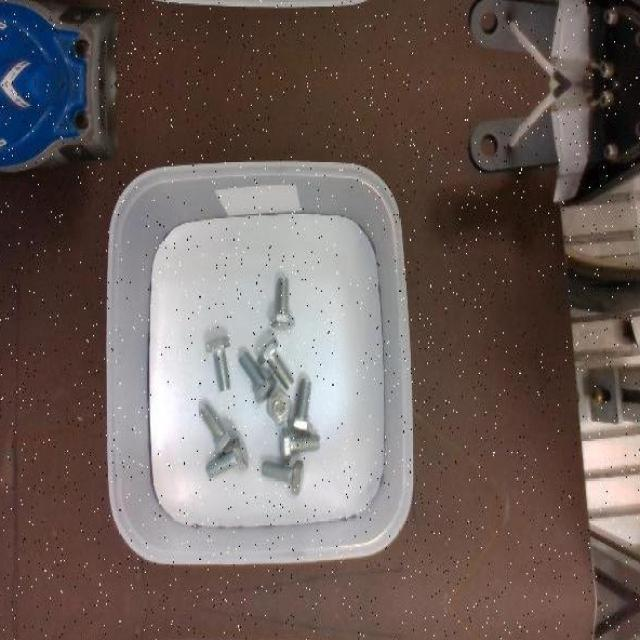screw: (258, 336, 296, 390), (238, 350, 276, 404), (199, 404, 237, 456), (207, 436, 250, 477), (288, 377, 314, 435), (206, 335, 232, 391), (280, 427, 320, 463), (270, 277, 296, 330), (262, 461, 302, 495), (266, 390, 292, 425)
